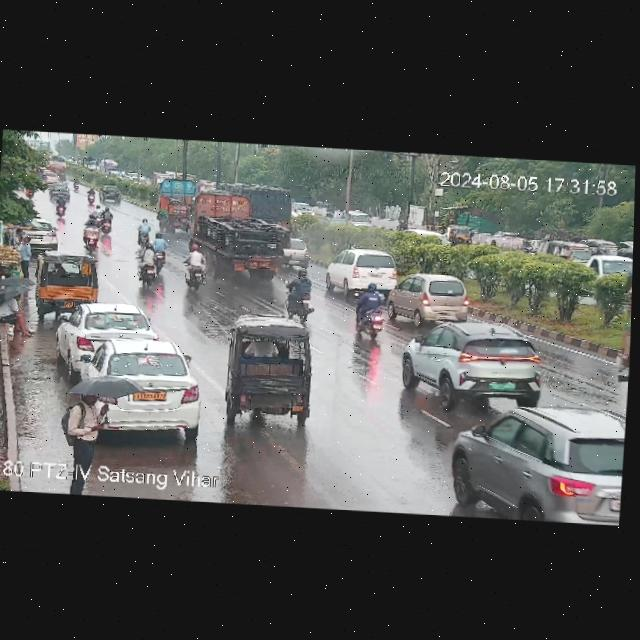car: (447, 396, 626, 520), (71, 338, 207, 436), (402, 320, 553, 408), (222, 309, 324, 427), (61, 299, 155, 362), (383, 269, 474, 324), (32, 249, 104, 313), (322, 247, 398, 297), (4, 215, 59, 246), (541, 238, 591, 264), (588, 254, 633, 282), (288, 236, 309, 265), (448, 226, 472, 243), (49, 184, 71, 201)
motorcycle: (345, 280, 390, 338), (283, 269, 316, 317), (183, 244, 207, 291), (138, 241, 158, 288), (134, 217, 153, 248), (153, 233, 168, 271), (100, 183, 122, 204), (83, 220, 97, 251), (101, 205, 114, 233), (56, 194, 66, 217), (89, 201, 103, 215), (88, 187, 96, 204), (73, 176, 79, 190), (85, 214, 95, 222)
person: (74, 377, 138, 440), (0, 288, 31, 338), (20, 236, 35, 278), (13, 226, 23, 246)
truck: (188, 181, 291, 279), (157, 173, 189, 227)
